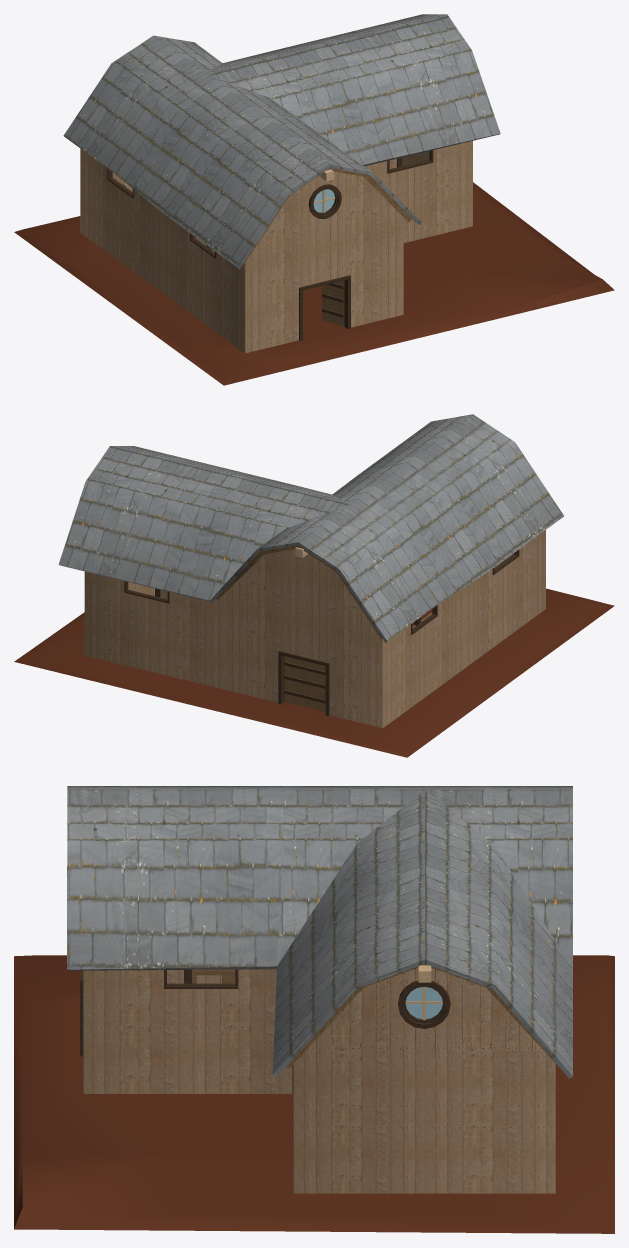
File: Bldg_Base_3.fbx
3 renders of one model, top to bottom at view 1: azimuth 30°, elevation 25°; view 2: azimuth 150°, elevation 25°; view 3: azimuth 270°, elevation 25°, orthographic. The views are drawn at different scales.
Visible parts, largest first — view 1: Bldg_Barn, Bldg_Base_3, Door, DoubleDoorFrame_1; view 2: Bldg_Barn, Bldg_Base_3, Door.003, Door.004, DoubleDoorFrame_2; view 3: Bldg_Barn, Bldg_Base_3, Cube.089.
Boxes of the visible parts, left/top/right/bottom form: Bldg_Barn: left=63, top=14, right=500, bottom=353; Bldg_Base_3: left=14, top=182, right=614, bottom=385; Door: left=322, top=280, right=344, bottom=326; DoubleDoorFrame_1: left=299, top=275, right=350, bottom=340; Bldg_Barn: left=58, top=414, right=563, bottom=728; Bldg_Base_3: left=14, top=588, right=614, bottom=757; Door.003: left=284, top=656, right=306, bottom=707; Door.004: left=306, top=661, right=325, bottom=711; DoubleDoorFrame_2: left=278, top=651, right=329, bottom=715; Bldg_Barn: left=67, top=786, right=572, bottom=1193; Bldg_Base_3: left=14, top=955, right=614, bottom=1233; Cube.089: left=398, top=980, right=450, bottom=1028.
Size of the model in its own units: 25.04 by 10.64 by 22.9.
